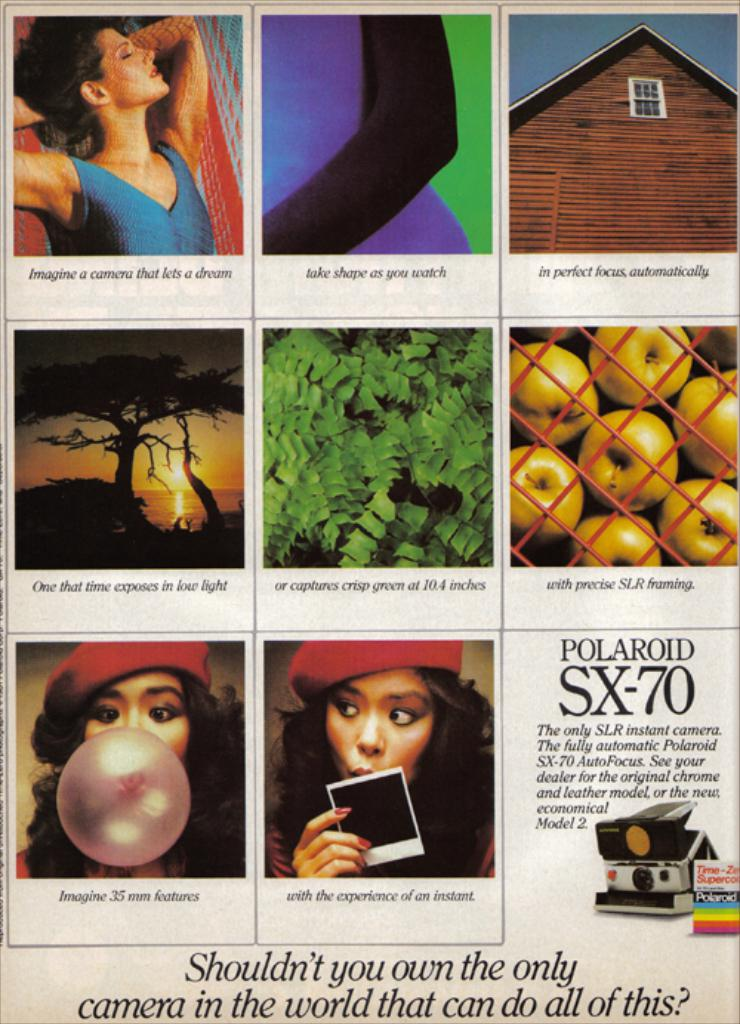Apple: (506, 319, 738, 566), (577, 408, 676, 509)
